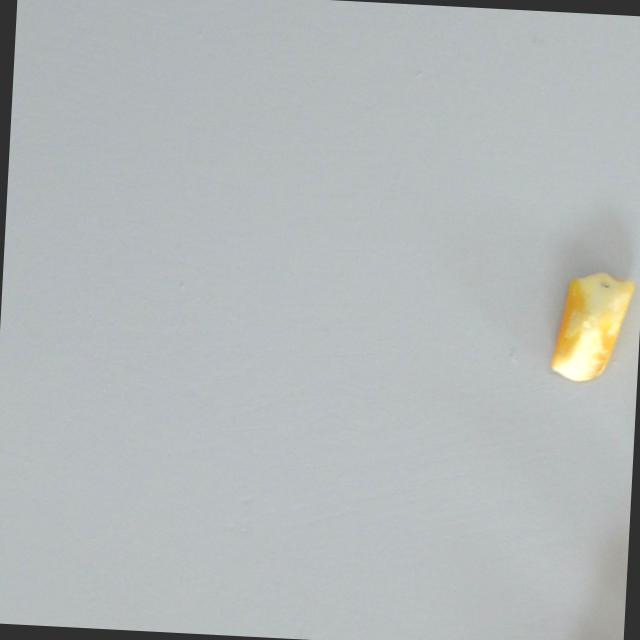punto_negro: (546, 267, 638, 391)
